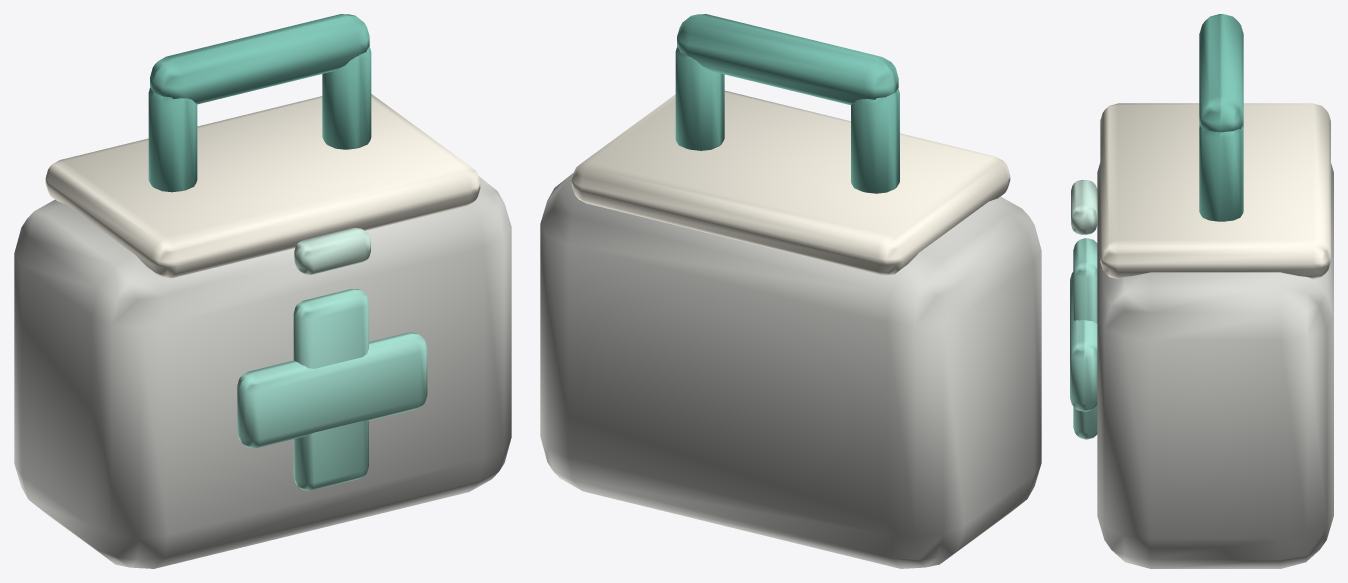
Rendered from hospital.glb.
3 renders of one model, left to right at view 1: azimuth 30°, elevation 25°; view 2: azimuth 150°, elevation 25°; view 3: azimuth 270°, elevation 25°, orthographic. The views are drawn at different scales.
Parts seen in each view (by area): view 1: Medical bag body, Bag top seam, Medical cross horizontal, Handle arch, Medical cross vertical, Handle right post, Handle left post, Bag clasp; view 2: Medical bag body, Bag top seam, Handle arch, Handle right post, Handle left post; view 3: Medical bag body, Bag top seam, Handle arch, Handle left post, Medical cross vertical, Medical cross horizontal, Bag clasp.
Part boxes in pixels (bbox=[...]): Medical bag body: bbox=[14, 176, 511, 568]; Bag top seam: bbox=[45, 94, 480, 277]; Medical cross horizontal: bbox=[237, 332, 427, 448]; Handle arch: bbox=[150, 14, 369, 104]; Medical cross vertical: bbox=[293, 289, 368, 490]; Handle right post: bbox=[148, 87, 197, 192]; Handle left post: bbox=[322, 46, 371, 149]; Bag clasp: bbox=[294, 227, 370, 274]; Medical bag body: bbox=[540, 173, 1041, 568]; Bag top seam: bbox=[571, 90, 1010, 275]; Handle arch: bbox=[677, 14, 898, 104]; Handle right post: bbox=[851, 88, 899, 193]; Handle left post: bbox=[675, 46, 724, 150]; Medical bag body: bbox=[1097, 163, 1333, 568]; Bag top seam: bbox=[1100, 103, 1330, 279]; Handle arch: bbox=[1199, 14, 1243, 132]; Handle left post: bbox=[1199, 126, 1243, 221]; Medical cross vertical: bbox=[1073, 238, 1097, 439]; Medical cross horizontal: bbox=[1070, 272, 1097, 411]; Bag clasp: bbox=[1071, 180, 1097, 234].
Size of the model in its own units: 0.76 by 0.8125 by 0.446.
